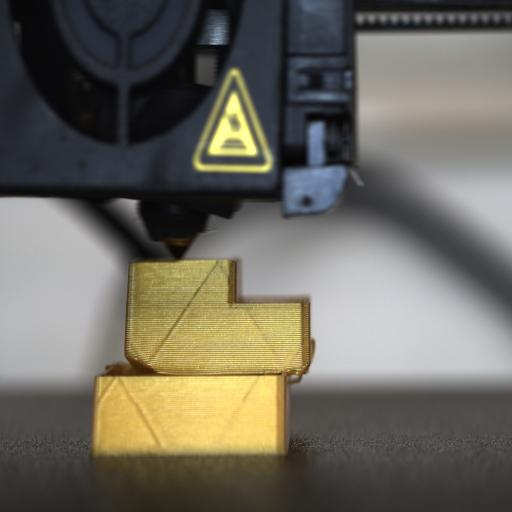layer_shift: (94, 355, 314, 383)
